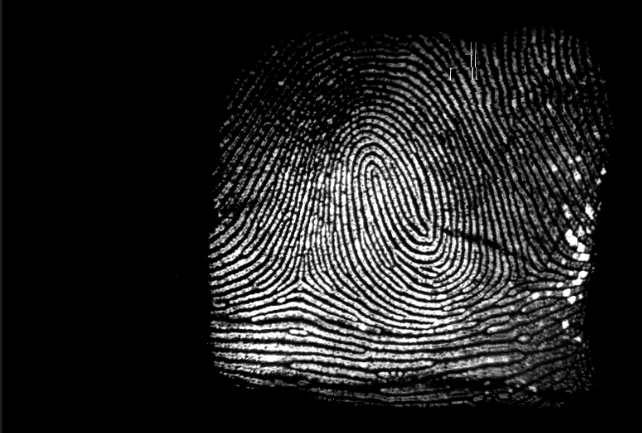nucelo: (357, 153, 396, 206)
verticilo: (279, 268, 314, 294), (508, 265, 544, 287)
